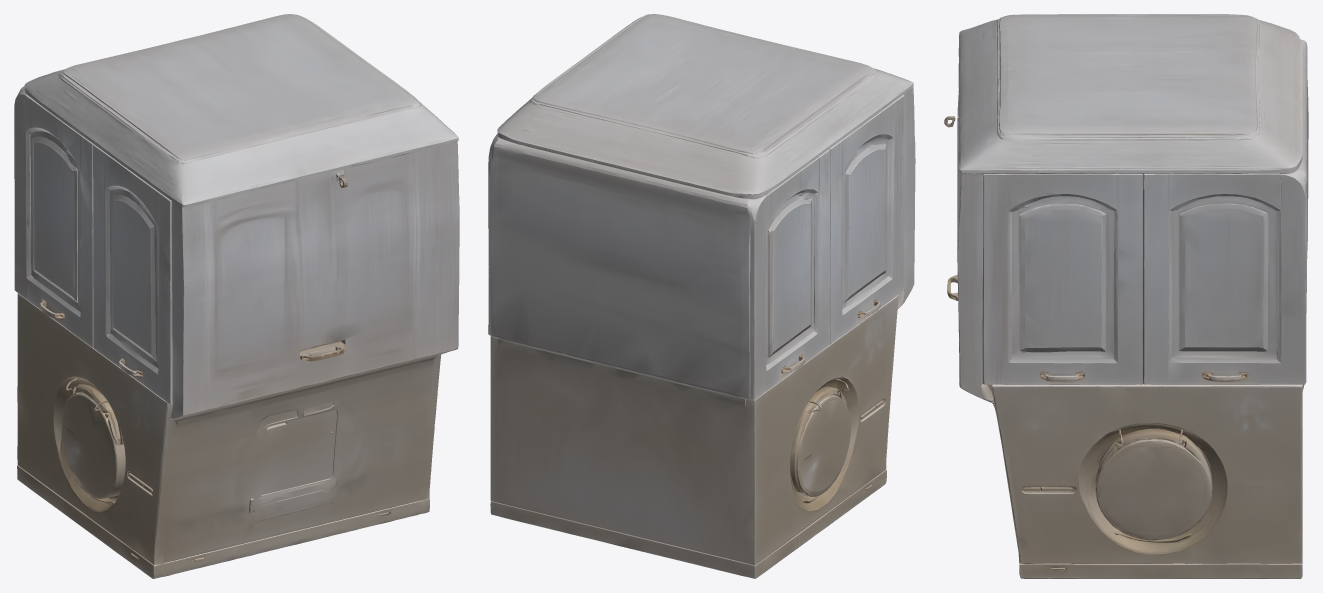
Rendered from utensil-holder.glb.
3 renders of one model, left to right at view 1: azimuth 30°, elevation 25°; view 2: azimuth 150°, elevation 25°; view 3: azimuth 270°, elevation 25°, orthographic. The views are drawn at different scales.
Parts seen in each view (by area): view 1: model; view 2: model; view 3: model.
Boxes of the visible parts, bbox=[...] form: model: bbox=[14, 14, 459, 578]; model: bbox=[488, 14, 915, 578]; model: bbox=[944, 14, 1308, 578].
Size of the model in its own units: 1.38 by 1.89 by 1.42.
1 material, 1 textured.
